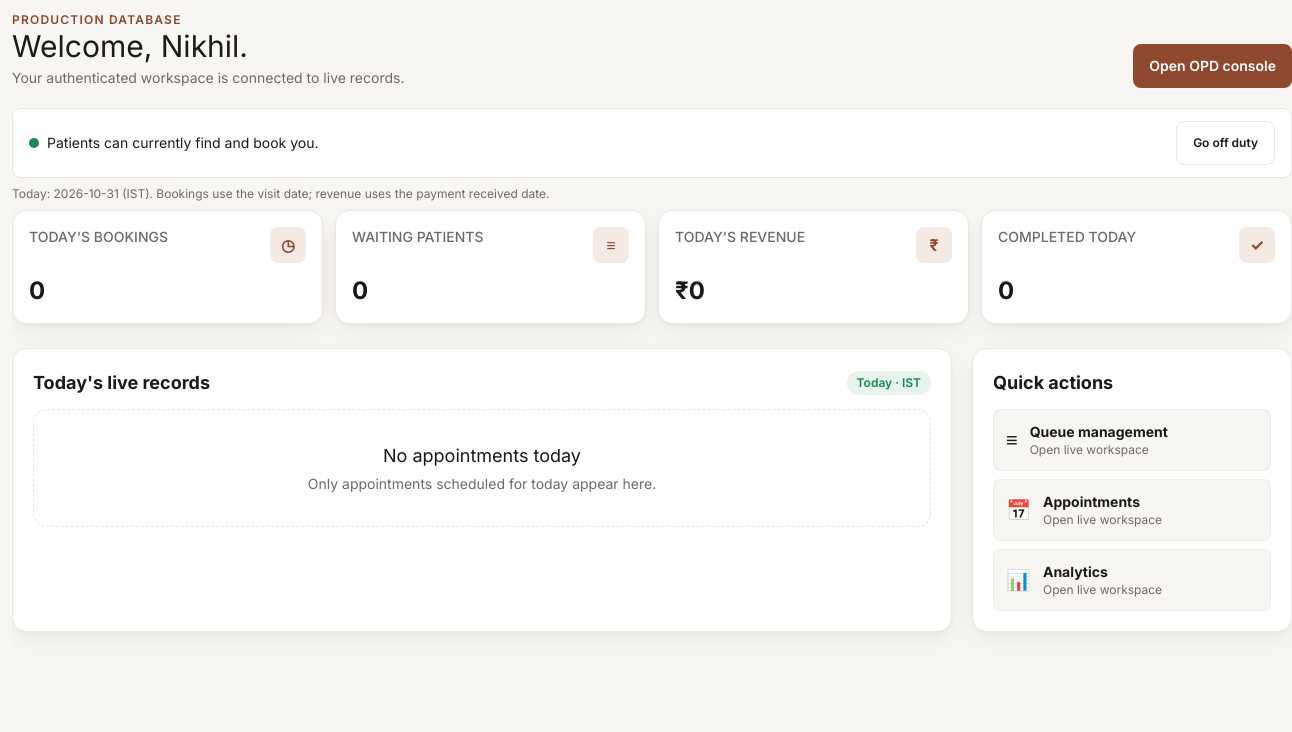
Test: DoctorDashboard › toggles duty status, carrying the current booking-policy fields through PATCH /doctors/:id
Expected: the text "Patients can currently find and book you." is shown, [29,133,318,153]
Click the button "Go off duty". click: (1226, 143)
box: [1176,121,1275,165]
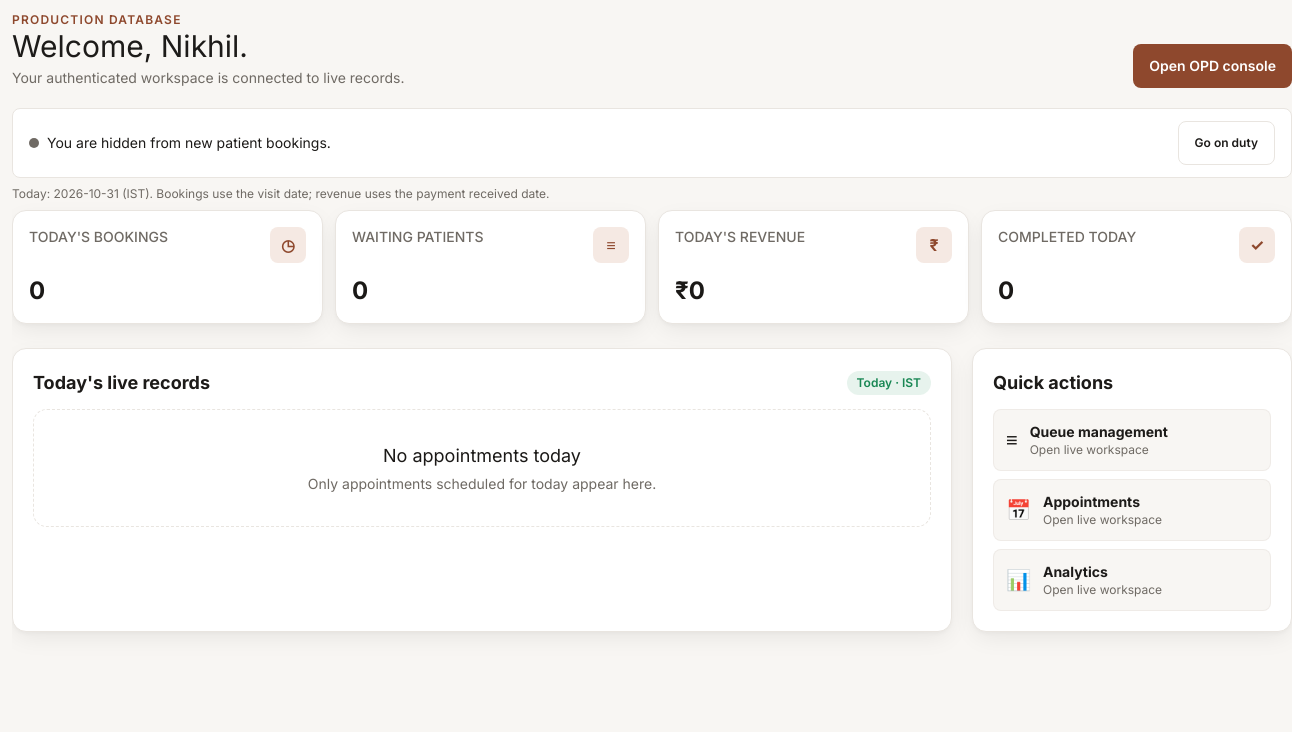
Now the button "Go on duty" is shown, box [1178,121,1275,165]
Now the text "You are hidden from new patient bookings." is shown, box [29,133,331,153]
